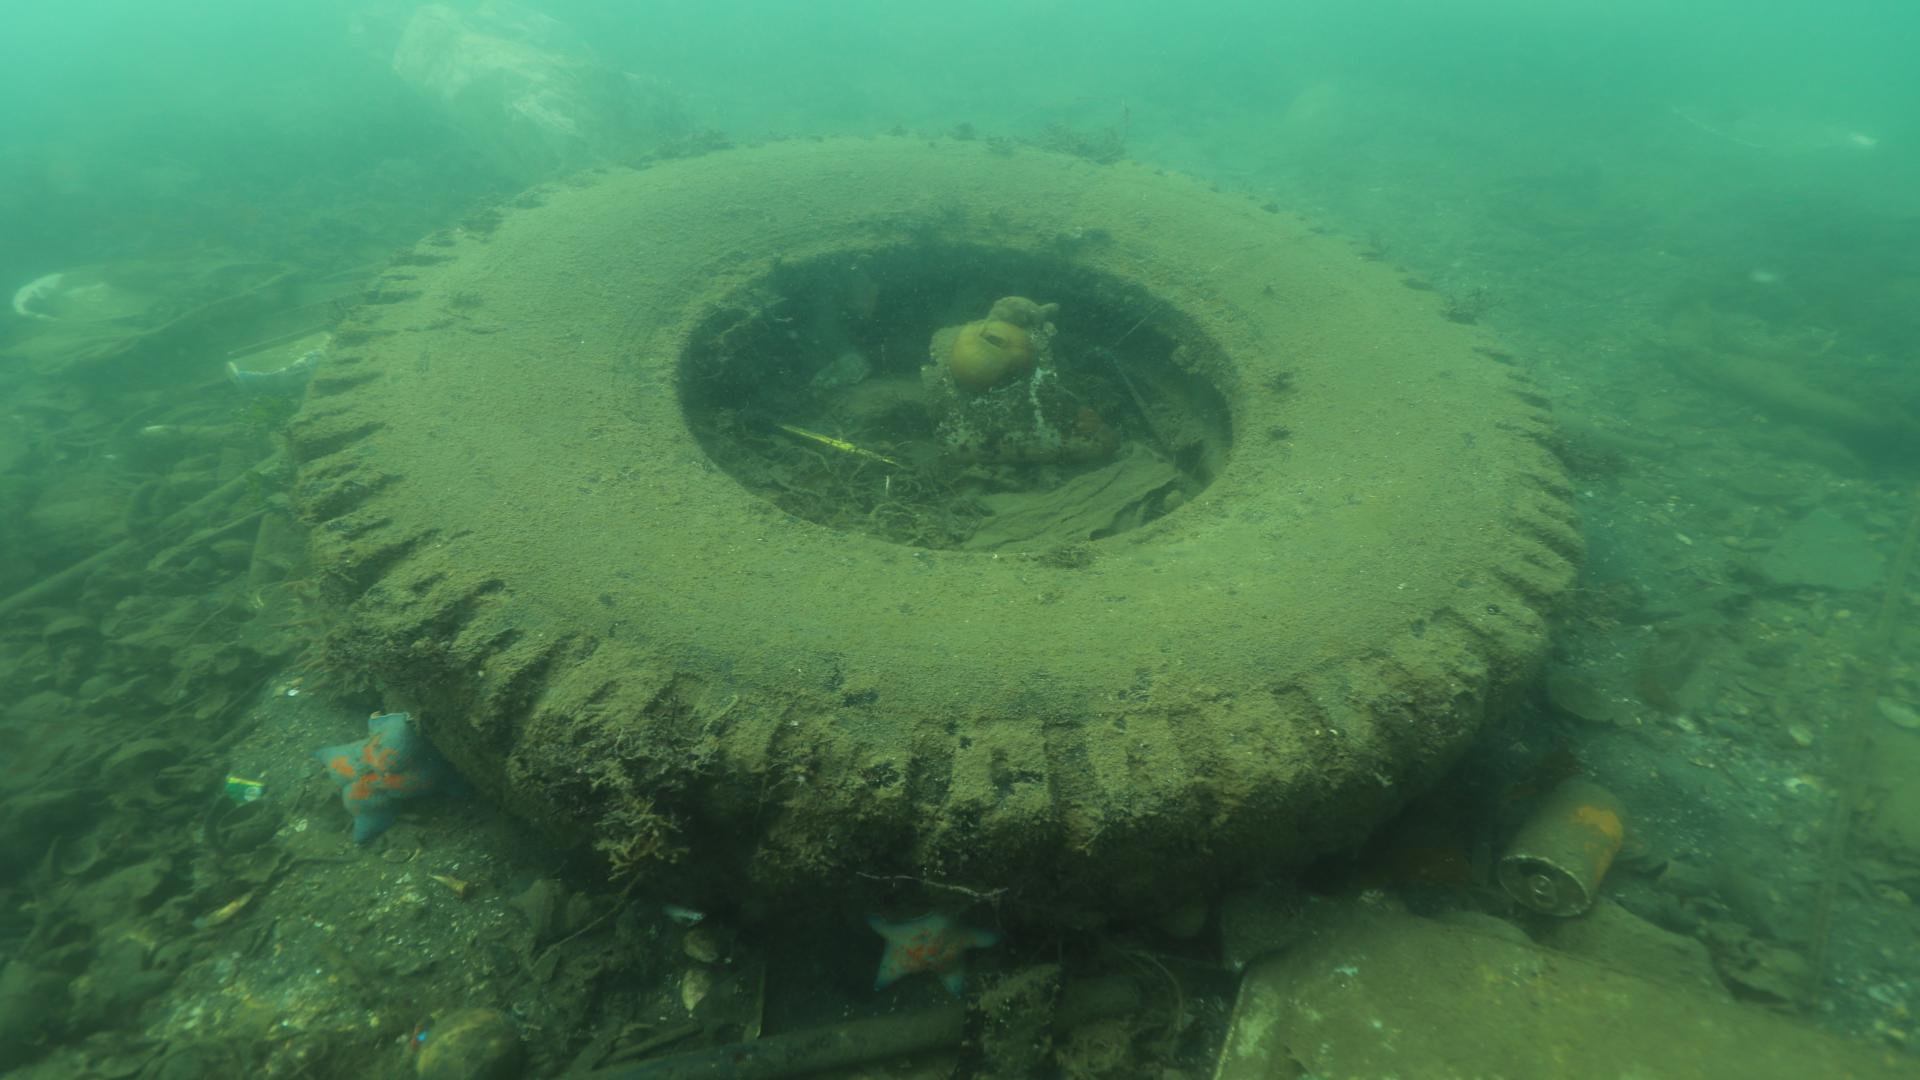tire: (289, 125, 1585, 942)
